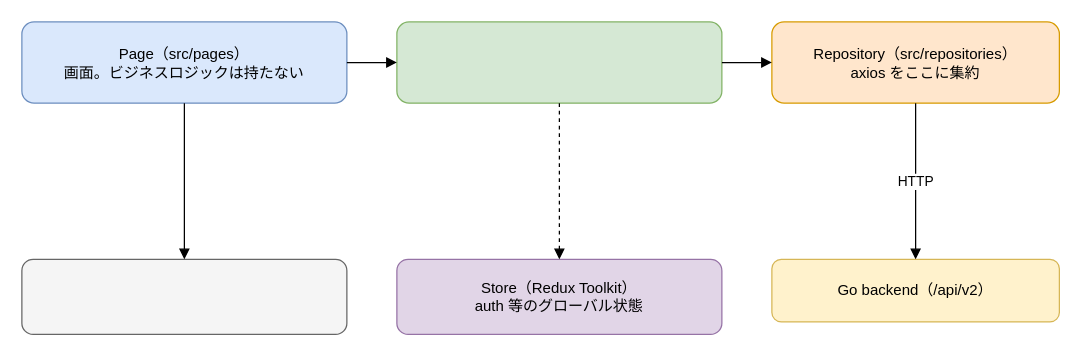
The diagram is 1081 pixels wide and 356 high, and some of its shapes have lost their labels. Here are the shapes that lost their labels. From the top down, the centre of each, then its label:
At point (559, 62): "Hook（src/hooks） 画面固有の状態管理・API 呼び出し".
At point (184, 296): "Component（src/components） 副作用なしの表示".
